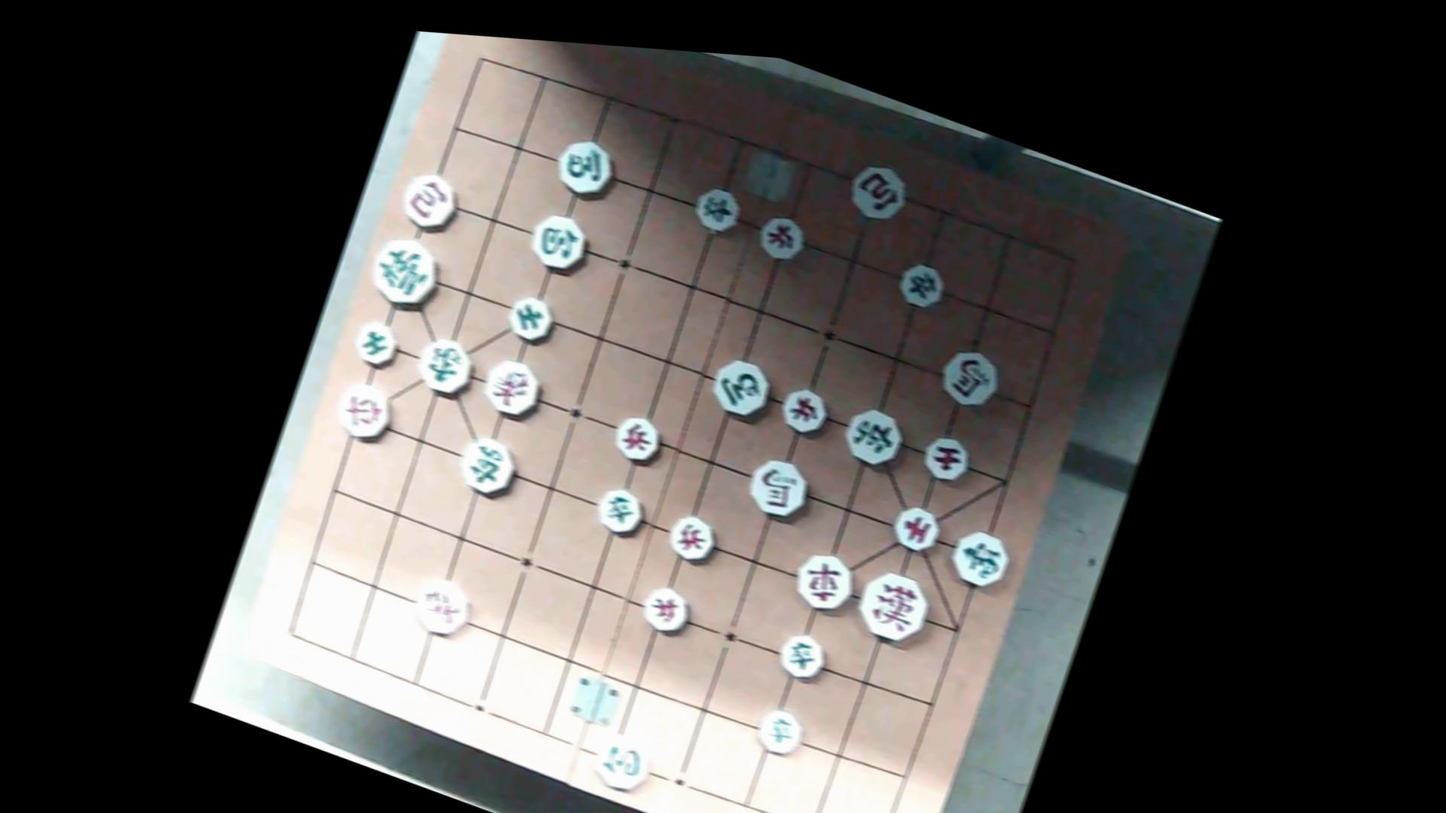cha_green: (838, 402, 903, 470), (453, 431, 517, 498)
cha_red: (325, 376, 397, 447), (788, 546, 856, 618)
jol_green: (770, 623, 830, 684), (894, 257, 950, 315), (685, 181, 741, 239), (752, 703, 808, 760), (591, 478, 645, 537)
jol_red: (607, 406, 669, 469), (775, 378, 829, 440), (664, 507, 718, 567), (754, 208, 808, 265), (639, 579, 691, 638)
ma_green: (706, 348, 776, 425), (551, 129, 618, 205)
ma_red: (931, 339, 1007, 417), (743, 451, 813, 522)
po_green: (524, 204, 591, 280), (587, 726, 657, 796)
po_red: (843, 153, 914, 230), (396, 161, 462, 236)
sa_green: (503, 286, 557, 349), (349, 316, 401, 371)
sa_red: (885, 500, 942, 555), (919, 429, 972, 487)
sang_green: (944, 521, 1014, 592), (410, 330, 475, 397)
sang_red: (403, 566, 477, 646), (477, 354, 544, 422)
wang_green: (362, 225, 444, 316)
wang_red: (849, 563, 935, 652)
